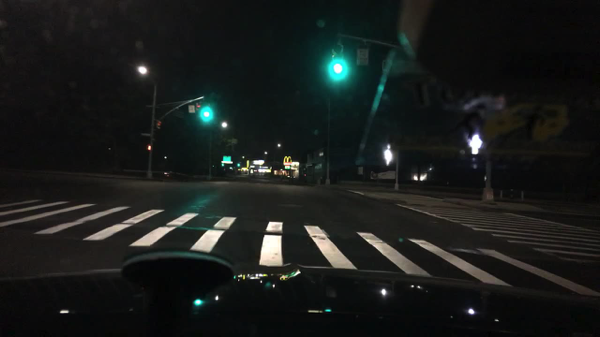car: (162, 171, 175, 179), (286, 174, 295, 179)
traffic light: (331, 44, 345, 78), (202, 104, 211, 122), (196, 103, 201, 116), (156, 120, 161, 130), (147, 145, 151, 151), (237, 163, 240, 167), (221, 163, 224, 167)
traffic sign: (382, 60, 425, 73), (357, 48, 367, 65), (188, 104, 195, 113), (222, 155, 230, 162), (141, 132, 150, 136)
